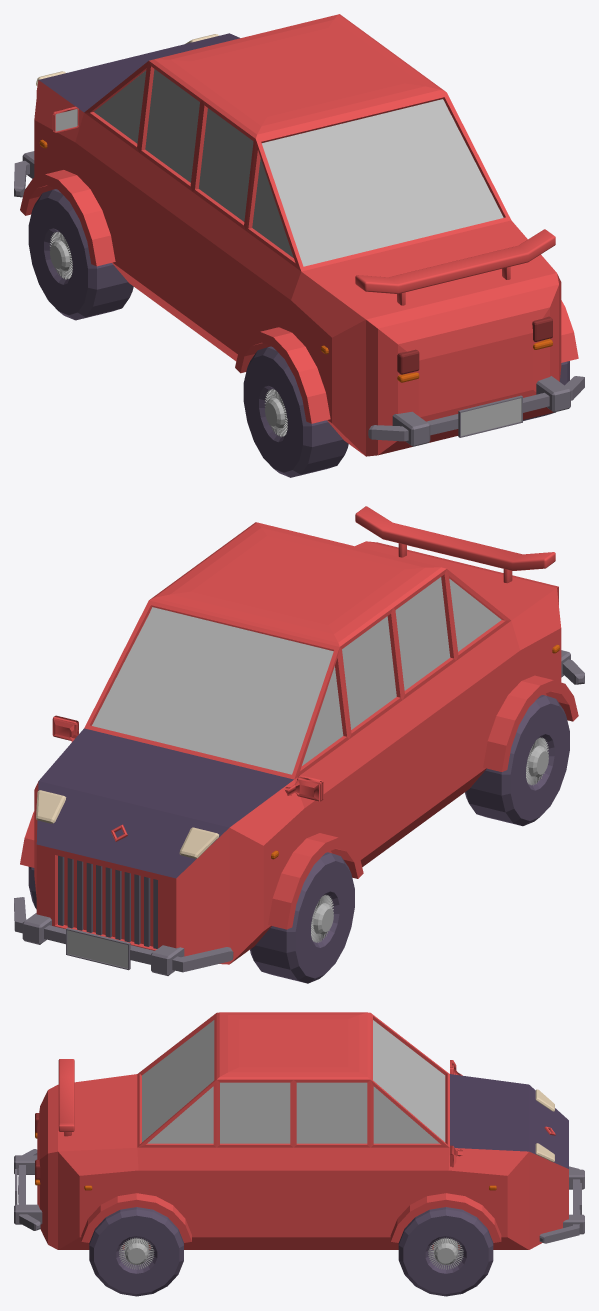
The model's file is car1.fbx.
The picture shows the model from 3 angles, top to bottom: view 1: azimuth 30°, elevation 25°; view 2: azimuth 150°, elevation 25°; view 3: azimuth 270°, elevation 25°; orthographic projection. The views are drawn at different scales.
Parts seen in each view (by area): view 1: Cube_2_2, Tube_2, Null, Tube, Cube, Cube_4, Cube_1_2_3, Cube_2_3, Cube_3_2, mirror; view 2: Cube_2_2, Tube, Null, Tube_2, Cube, Cube_1_3_3, Cube_3, Cube_1_4_3, Cube_2_4, mirror; view 3: Cube_2_2, Tube, Tube_2, Null, Cube, Cube_2_3, Cube_1_3_3, Cube_1_2_3, Cube_2_4, Cylinder_4, Cylinder_3, Cube_1_4_3.
Boxes of the visible parts, x1,y1,x2,y2 form: Cube_2_2: (34,14,561,456); Tube_2: (243,346,569,477); Null: (20,170,578,423); Tube: (28,189,133,320); Cube: (355,229,555,293); Cube_4: (458,395,522,437); Cube_1_2_3: (368,376,584,441); Cube_2_3: (392,376,570,446); Cube_3_2: (397,316,552,374); mirror: (52,106,78,132); Cube_2_2: (34,522,561,964); Tube: (28,852,354,983); Null: (20,675,578,929); Tube_2: (465,695,569,826); Cube: (355,506,555,570); Cube_1_3_3: (14,897,233,972); Cube_3: (66,927,130,970); Cube_1_4_3: (36,790,218,858); Cube_2_4: (22,913,184,975); mirror: (52,715,323,801); Cube_2_2: (37,1012,568,1249); Tube: (398,1207,493,1296); Tube_2: (89,1207,183,1296); Null: (81,1193,501,1242); Cube: (58,1059,74,1131); Cube_2_3: (14,1155,42,1224); Cube_1_3_3: (539,1166,580,1243); Cube_1_2_3: (18,1149,40,1230); Cube_2_4: (563,1169,584,1234); Cylinder_4: (124,1238,148,1264); Cylinder_3: (434,1238,457,1264); Cube_1_4_3: (535,1089,554,1161).
Bounding box in the file's own units: 285 × 290 × 720.
